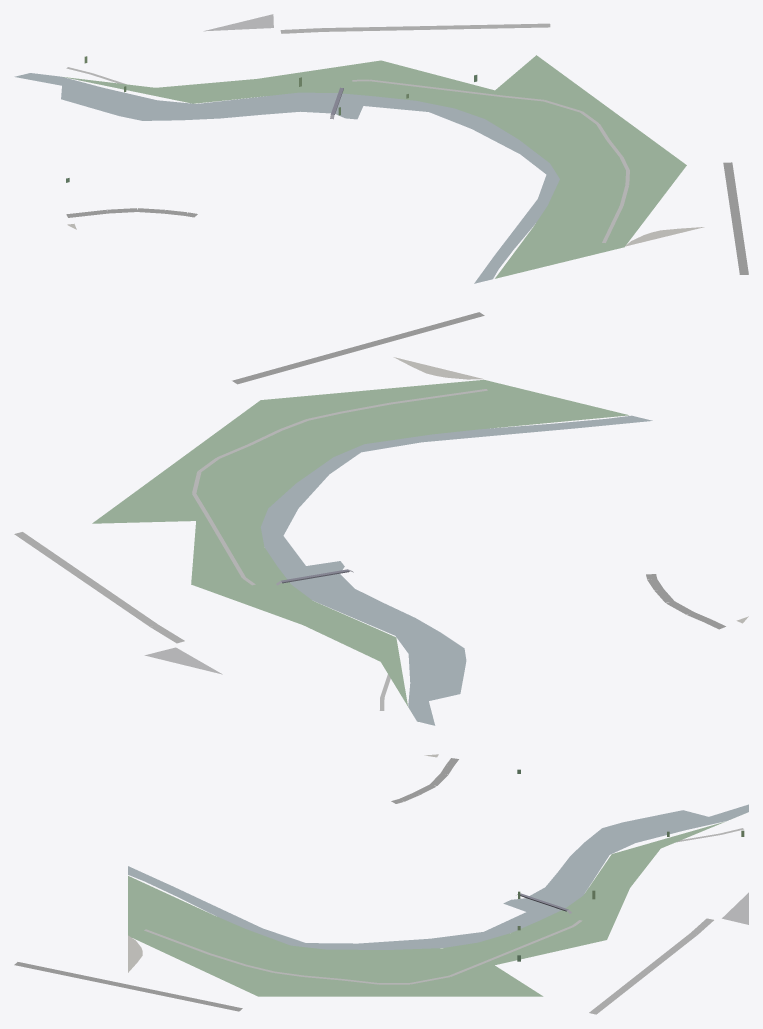
The picture shows the model from 3 angles, top to bottom: view 1: azimuth 30°, elevation 25°; view 2: azimuth 150°, elevation 25°; view 3: azimuth 270°, elevation 25°; orthographic projection. The views are drawn at different scales.
Size of the model in its own units: 500 by 8.81 by 592.
